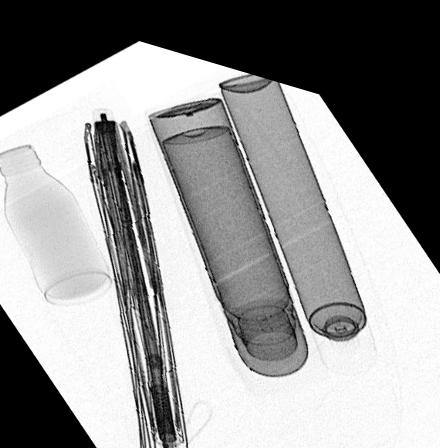Sprayer: (218, 59, 381, 357)
